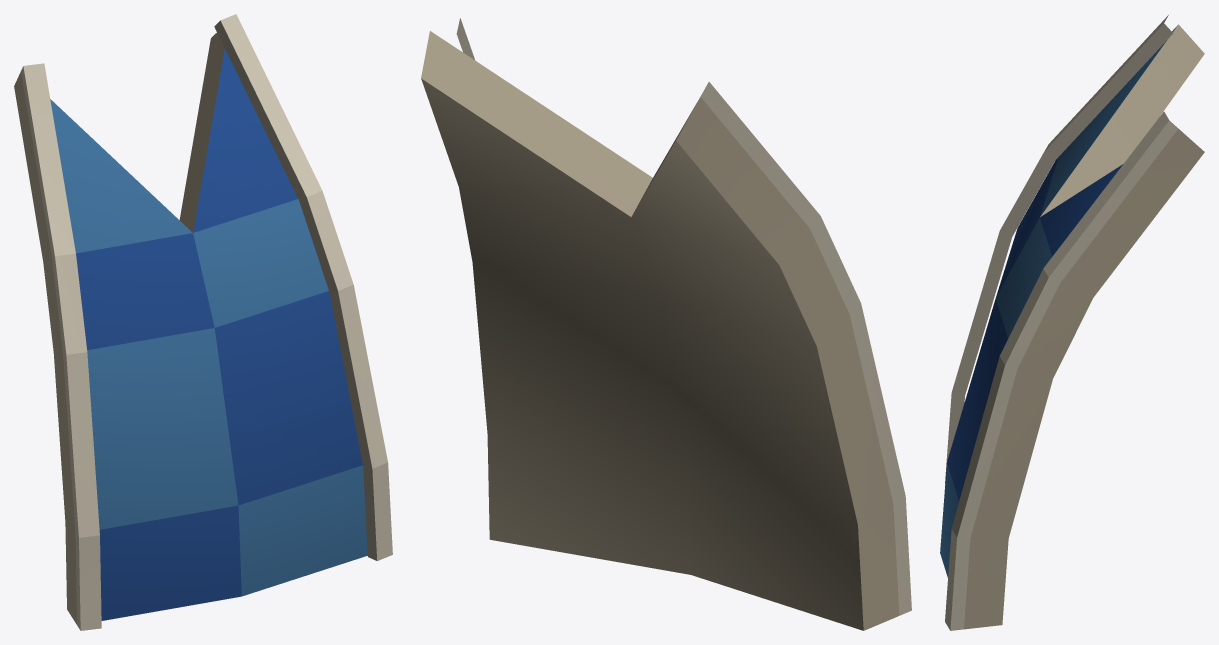
Rendered from dome.panel_12_broken.blue.glb.
3 renders of one model, left to right at view 1: azimuth 30°, elevation 25°; view 2: azimuth 150°, elevation 25°; view 3: azimuth 270°, elevation 25°, orthographic. The views are drawn at different scales.
Visible parts, largest first — view 1: dome_panel_12_broken_blue; view 2: dome_panel_12_broken_blue; view 3: dome_panel_12_broken_blue.
Boxes of the visible parts, left/top/right/bottom form: dome_panel_12_broken_blue: left=14, top=14, right=392, bottom=630; dome_panel_12_broken_blue: left=421, top=18, right=911, bottom=630; dome_panel_12_broken_blue: left=940, top=15, right=1204, bottom=630.
Size of what is drawn, in the model's own units: 1.85 by 2.68 by 1.33.
